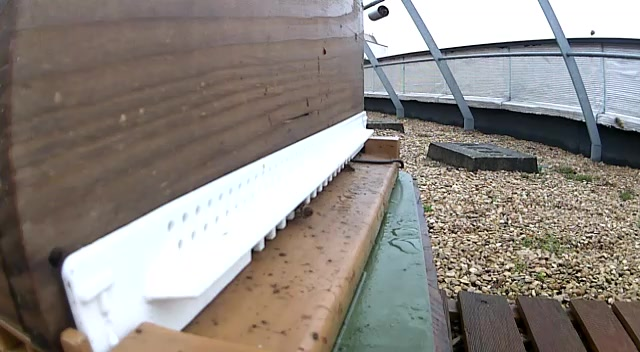bee: (293, 200, 315, 223), (342, 160, 358, 176), (612, 113, 626, 131), (587, 27, 598, 37)
